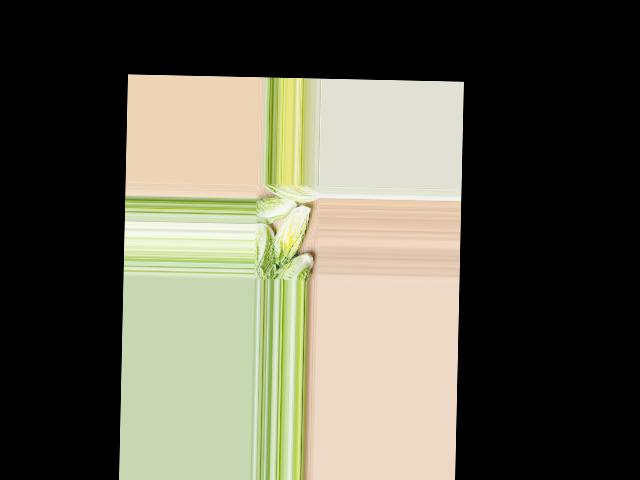lettuce: (263, 183, 318, 204)
